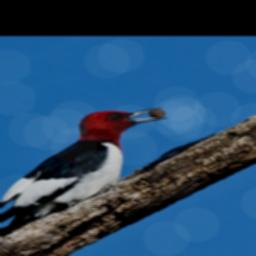Woodpecker: (0, 104, 171, 229)
